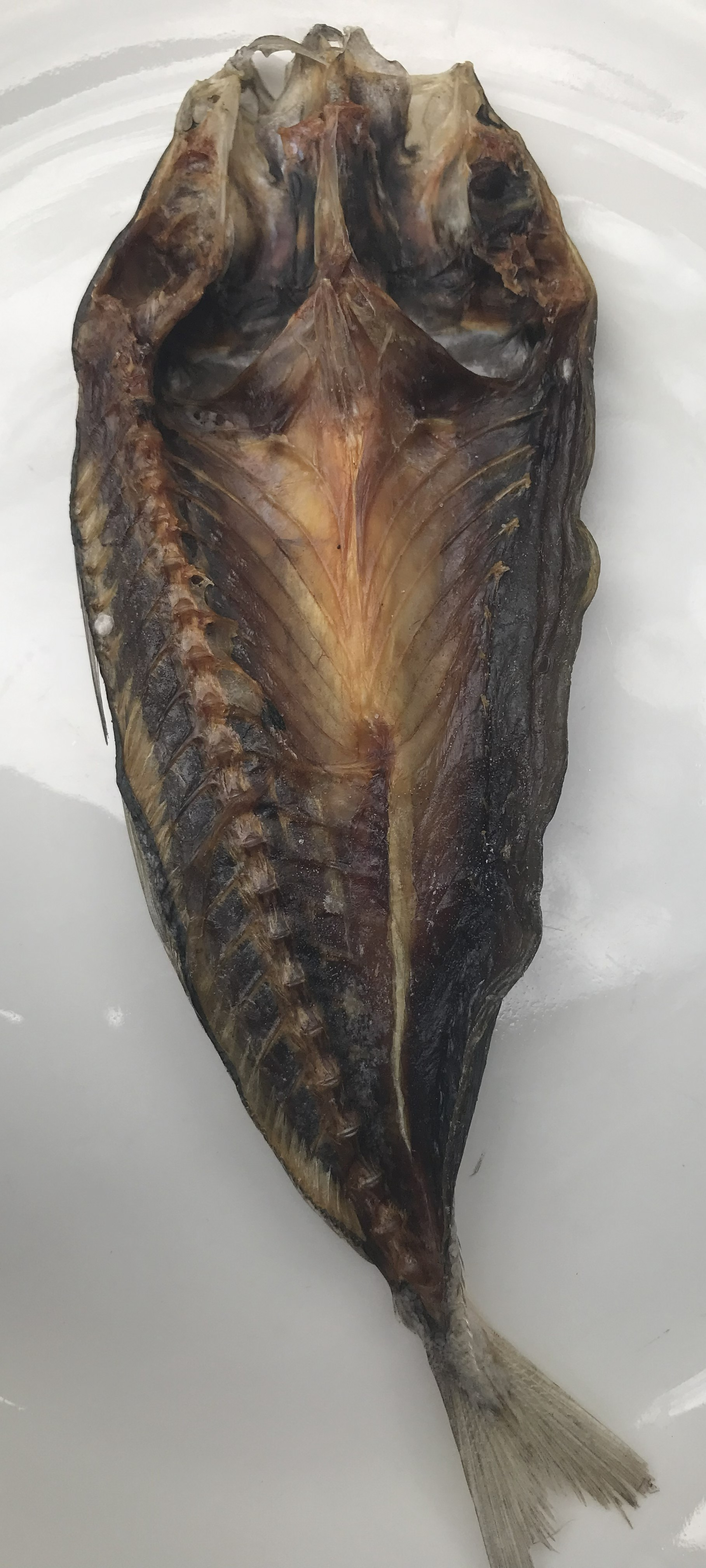barol_dried_: (69, 24, 656, 1568)
